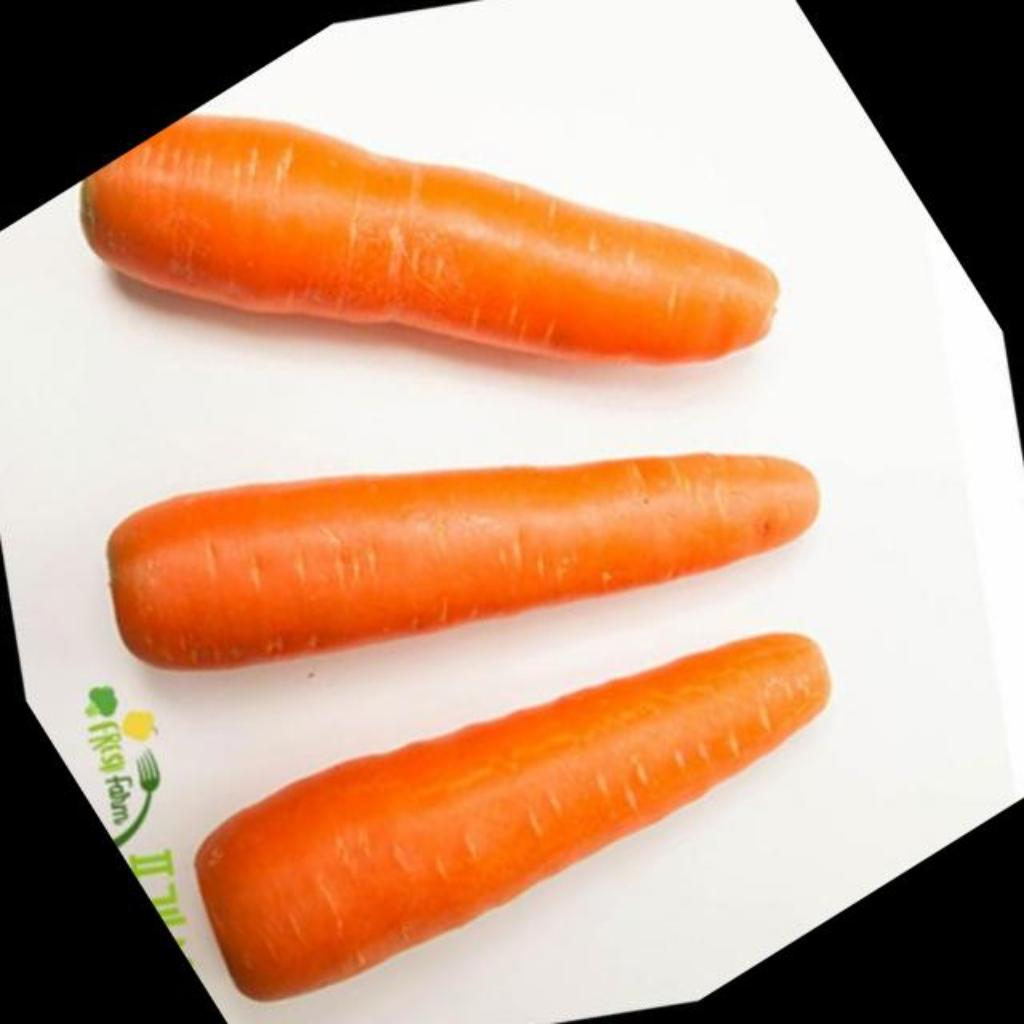carrot: (198, 634, 830, 1000), (82, 116, 778, 361), (108, 454, 818, 668)
